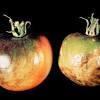tomato late blight: (1, 33, 54, 94), (59, 33, 100, 88)
